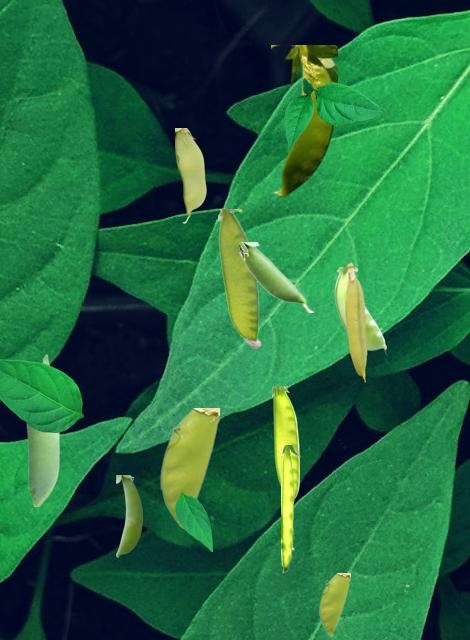pea: (271, 45, 336, 196), (160, 408, 218, 527), (218, 209, 260, 347), (239, 242, 312, 311), (26, 354, 58, 505), (334, 267, 385, 354), (272, 386, 298, 498), (175, 128, 205, 222), (345, 262, 366, 381), (281, 445, 299, 571), (116, 475, 141, 556), (319, 573, 349, 635)
